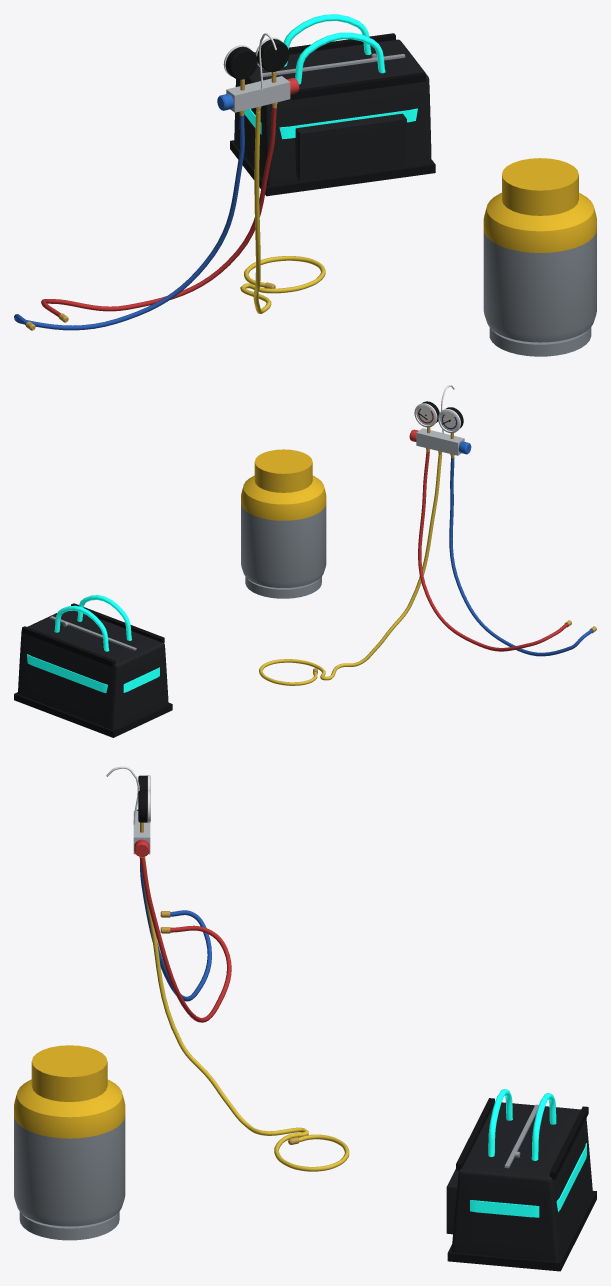
Rendered from jobsite-kit.glb.
3 views of the same model, one above another, from view 1: azimuth 30°, elevation 25°; view 2: azimuth 150°, elevation 25°; view 3: azimuth 270°, elevation 25° (orthographic). The views are drawn at different scales.
Parts seen in each view (by area): view 1: bag, cylinder, manifold; view 2: bag, cylinder, manifold; view 3: bag, cylinder, manifold.
Boxes of the visible parts, bbox=[...] form: bag: bbox=[230, 14, 435, 196]; cylinder: bbox=[483, 158, 596, 356]; manifold: bbox=[14, 33, 325, 330]; bag: bbox=[14, 595, 172, 737]; cylinder: bbox=[241, 449, 326, 598]; manifold: bbox=[259, 385, 596, 685]; bag: bbox=[446, 1089, 596, 1271]; cylinder: bbox=[14, 1045, 125, 1240]; manifold: bbox=[106, 766, 349, 1171].
Bounding box in the file's own units: 1.75 × 0.9961 × 1.57.
17 materials, 2 textured.
